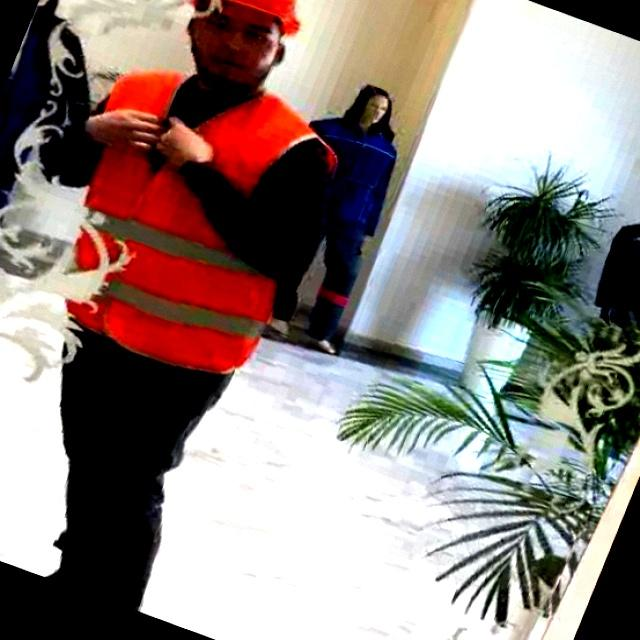helmet: (205, 2, 310, 38)
safety_vest: (72, 71, 327, 396)
